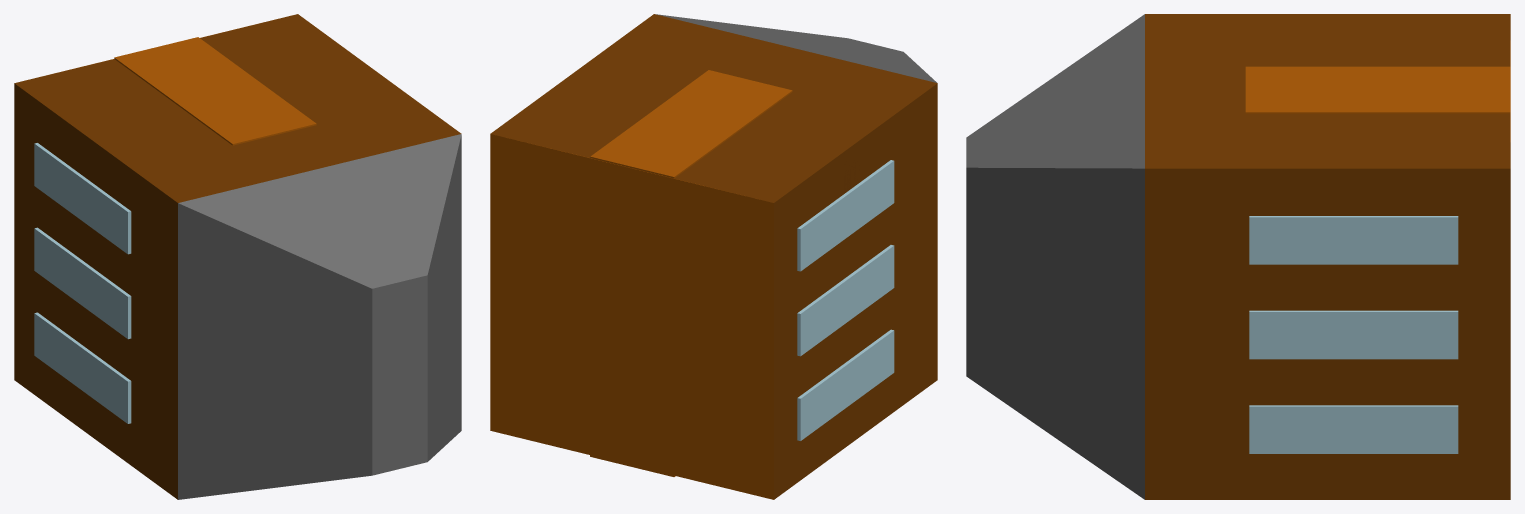
The model's file is Казарма1Origin.fbx.
3 renders of one model, left to right at view 1: azimuth 30°, elevation 25°; view 2: azimuth 150°, elevation 25°; view 3: azimuth 270°, elevation 25°, orthographic. The views are drawn at different scales.
Visible parts, largest first — view 1: Казарма1; view 2: Казарма1; view 3: Казарма1.
Part boxes in pixels (left/top/right/bottom): Казарма1: left=14, top=14, right=461, bottom=499; Казарма1: left=490, top=14, right=937, bottom=499; Казарма1: left=966, top=14, right=1510, bottom=499.
Bounding box in the file's own units: 2.04 × 2.02 × 2.98.
